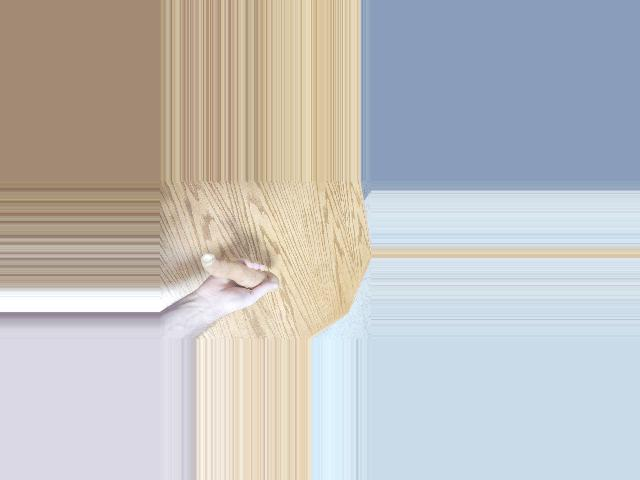sweet_potato: (195, 254, 282, 288)
